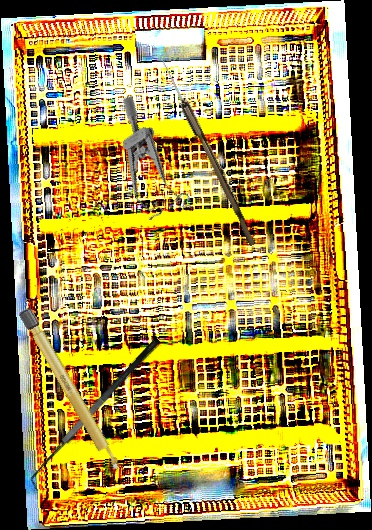Scalpel Handle: (17, 306, 124, 477)
Spatula Surgical: (21, 336, 173, 493)
Speculum: (85, 94, 202, 232)
Surgical Spoon: (153, 52, 261, 247)
